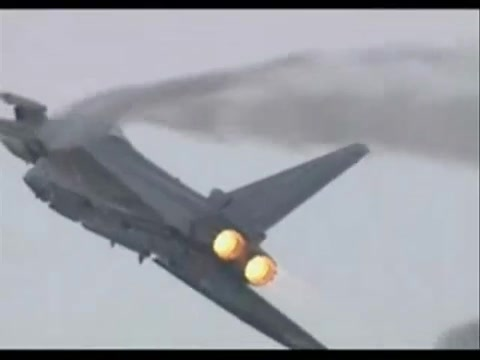aeroplane: (1, 88, 374, 351)
